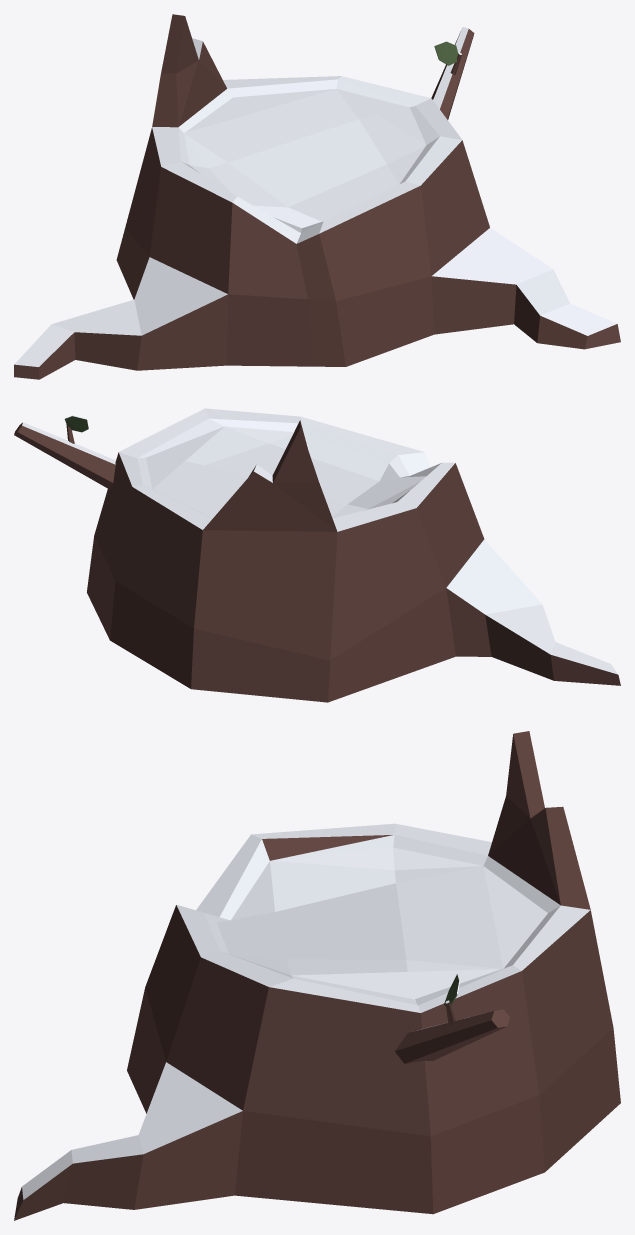
File: stump.glb
The picture shows the model from 3 angles, top to bottom: view 1: azimuth 30°, elevation 25°; view 2: azimuth 150°, elevation 25°; view 3: azimuth 270°, elevation 25°; orthographic projection. The views are drawn at different scales.
Visible parts, largest first — view 1: stump; view 2: stump; view 3: stump.
Boxes of the visible parts, box(x1,y1,x2,y2) form: stump: box(14, 14, 620, 379); stump: box(14, 408, 620, 702); stump: box(14, 731, 620, 1220).
Size of the model in its own units: 1.2 by 0.55 by 0.9127.
